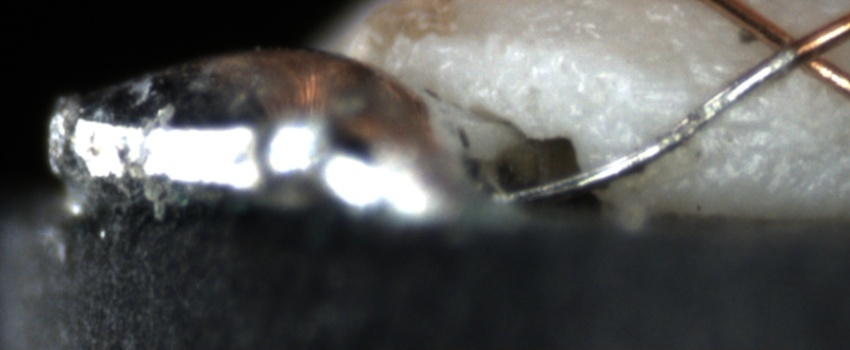CL: (752, 14, 842, 82)
DL: (679, 103, 772, 144)
TS: (496, 48, 799, 205)
